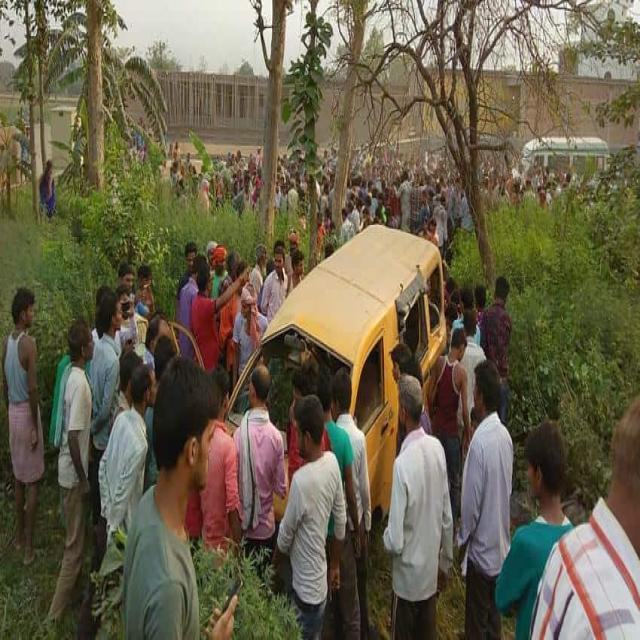accident: (230, 225, 446, 512)
